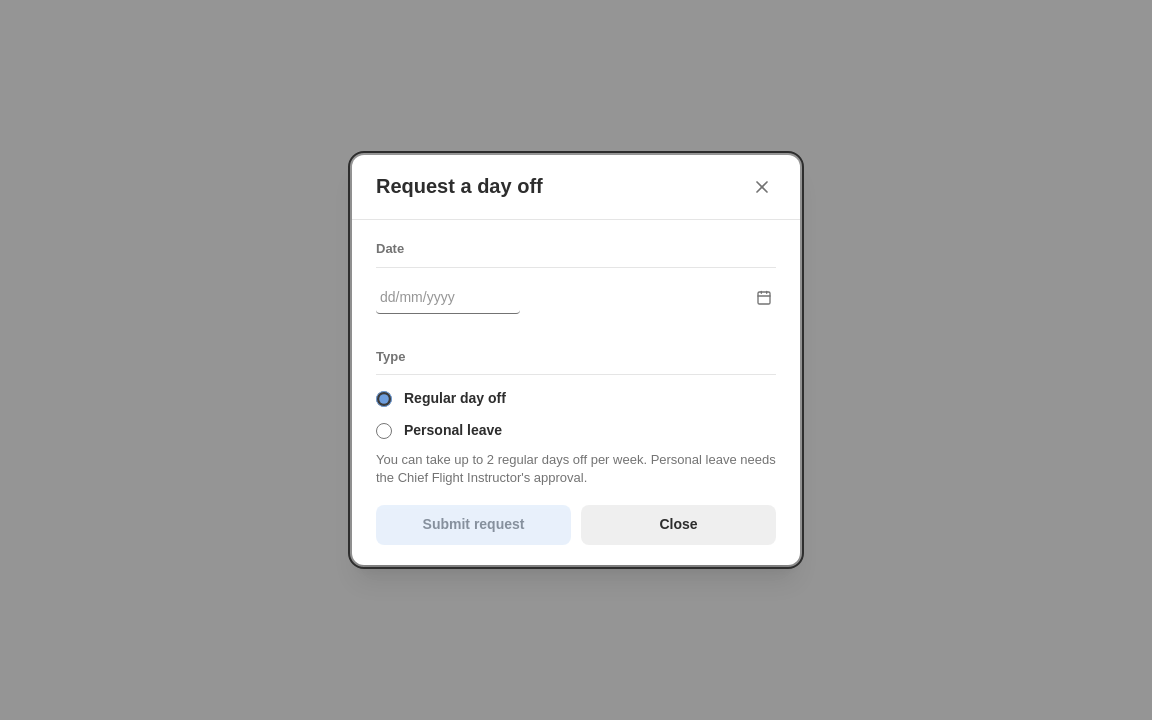
InstructorTimeOffFormModal › flags an out-of-range date and blocks submit
Type "01/01/2020" into the field named "Date".
click(448, 298); type("01/01/2020")  # box x1=376 y1=282 x2=520 y2=314
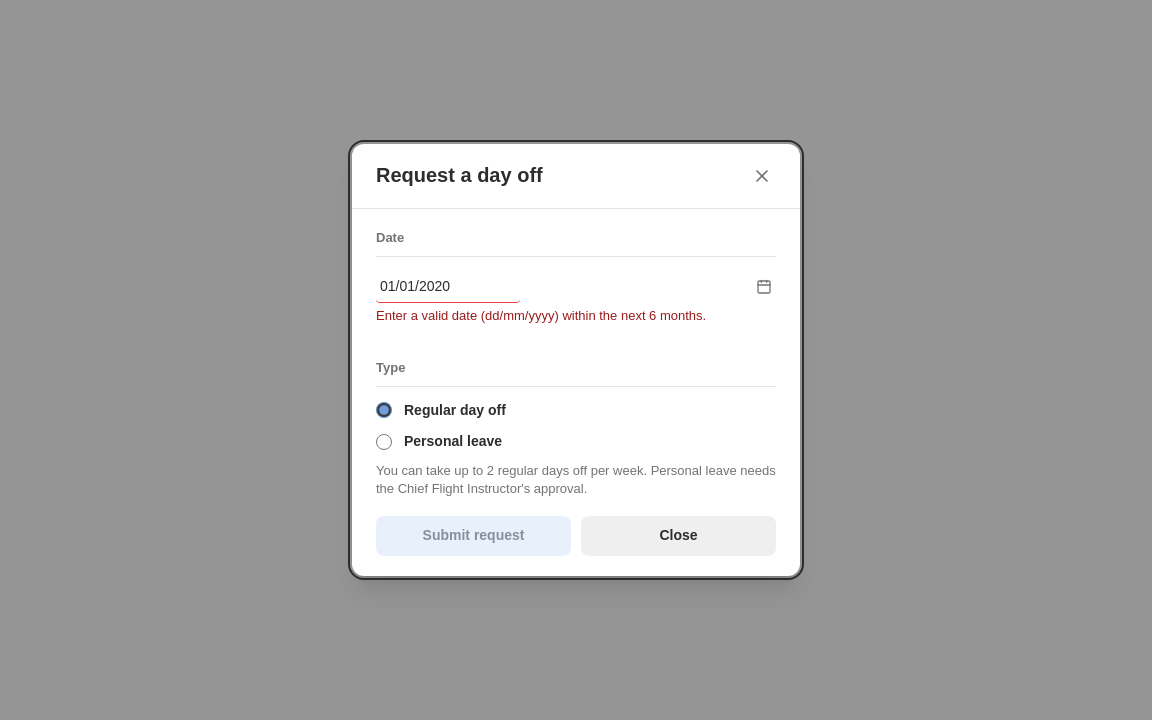
Expected: the button "Submit request" is disabled, x1=376 y1=516 x2=571 y2=556
Now the message reads "Enter a valid date (dd/mm/yyyy) within the next 6 months.", box x1=376 y1=308 x2=706 y2=323
